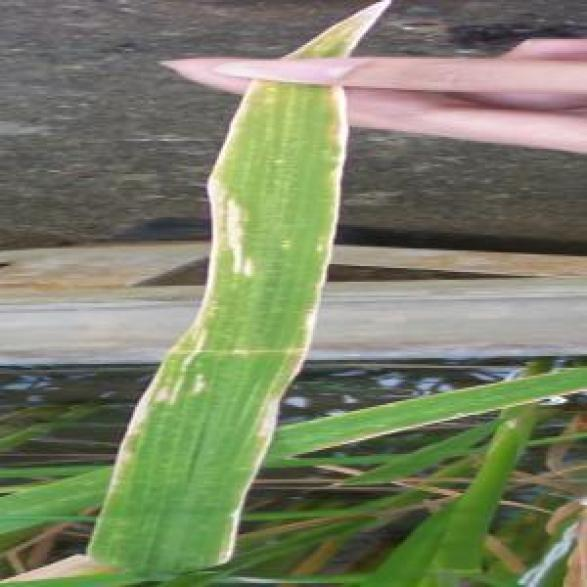Bacteria_Leaf_Blight: (196, 78, 341, 385)
